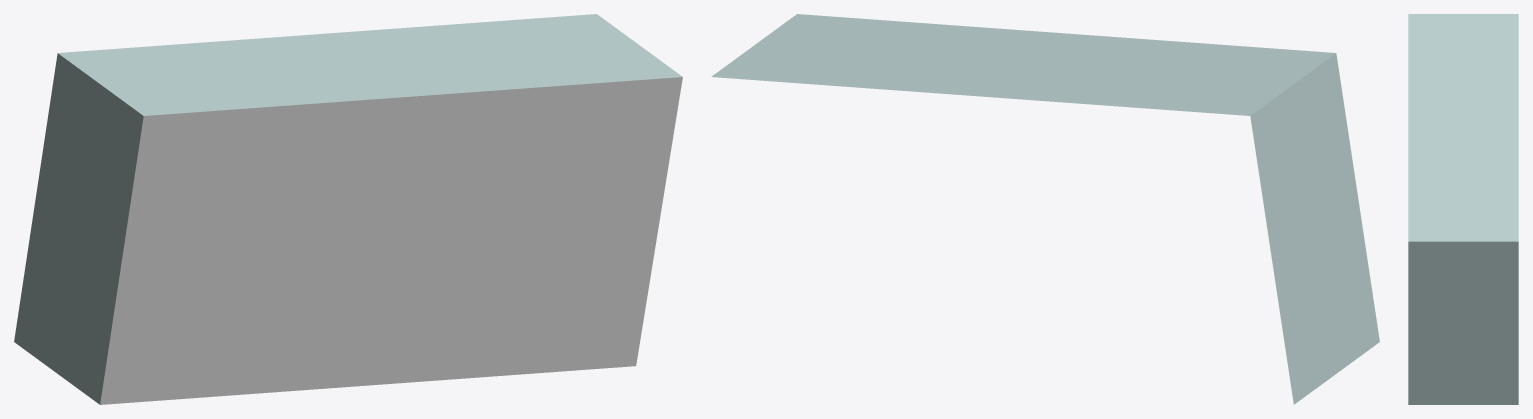
The picture shows the model from 3 angles, left to right: view 1: azimuth 30°, elevation 25°; view 2: azimuth 150°, elevation 25°; view 3: azimuth 270°, elevation 25°; orthographic projection. The views are drawn at different scales.
Parts seen in each view (by area): view 1: 0_2_3_2_3_0_1_3_2; view 2: 0_2_3_2_3_0_1_3_2; view 3: 0_2_3_2_3_0_1_3_2.
Part boxes in pixels (left/top/right/bottom): 0_2_3_2_3_0_1_3_2: left=14, top=14, right=682, bottom=404; 0_2_3_2_3_0_1_3_2: left=711, top=14, right=1379, bottom=404; 0_2_3_2_3_0_1_3_2: left=1408, top=14, right=1518, bottom=404.
Size of the model in its own units: 11.73 by 7.12 by 3.
